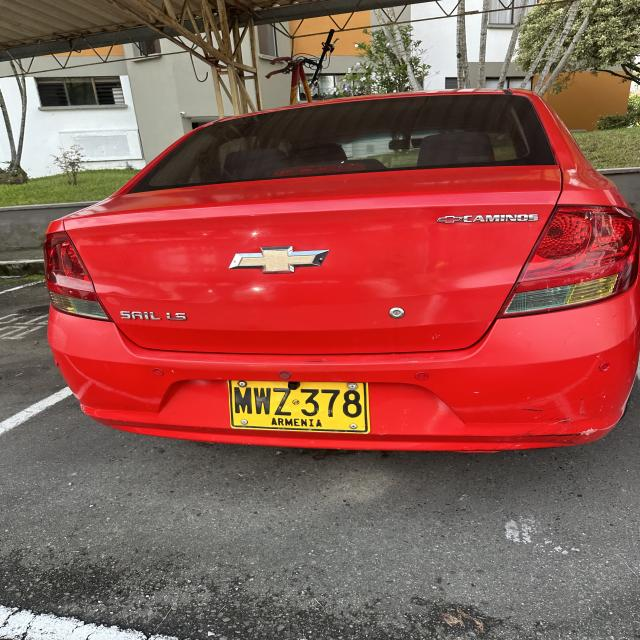number plate: (228, 380, 369, 433)
